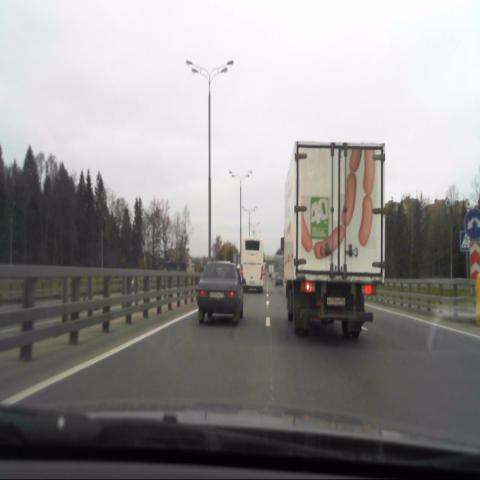4_2_3: (464, 208, 480, 240)
